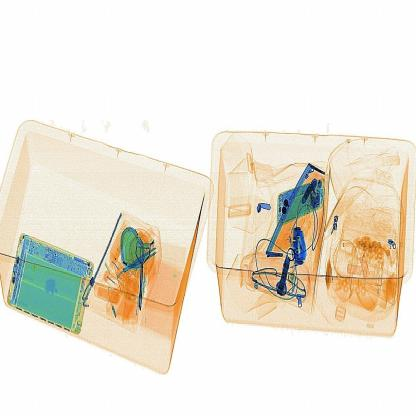scissors: (281, 219, 315, 275)
